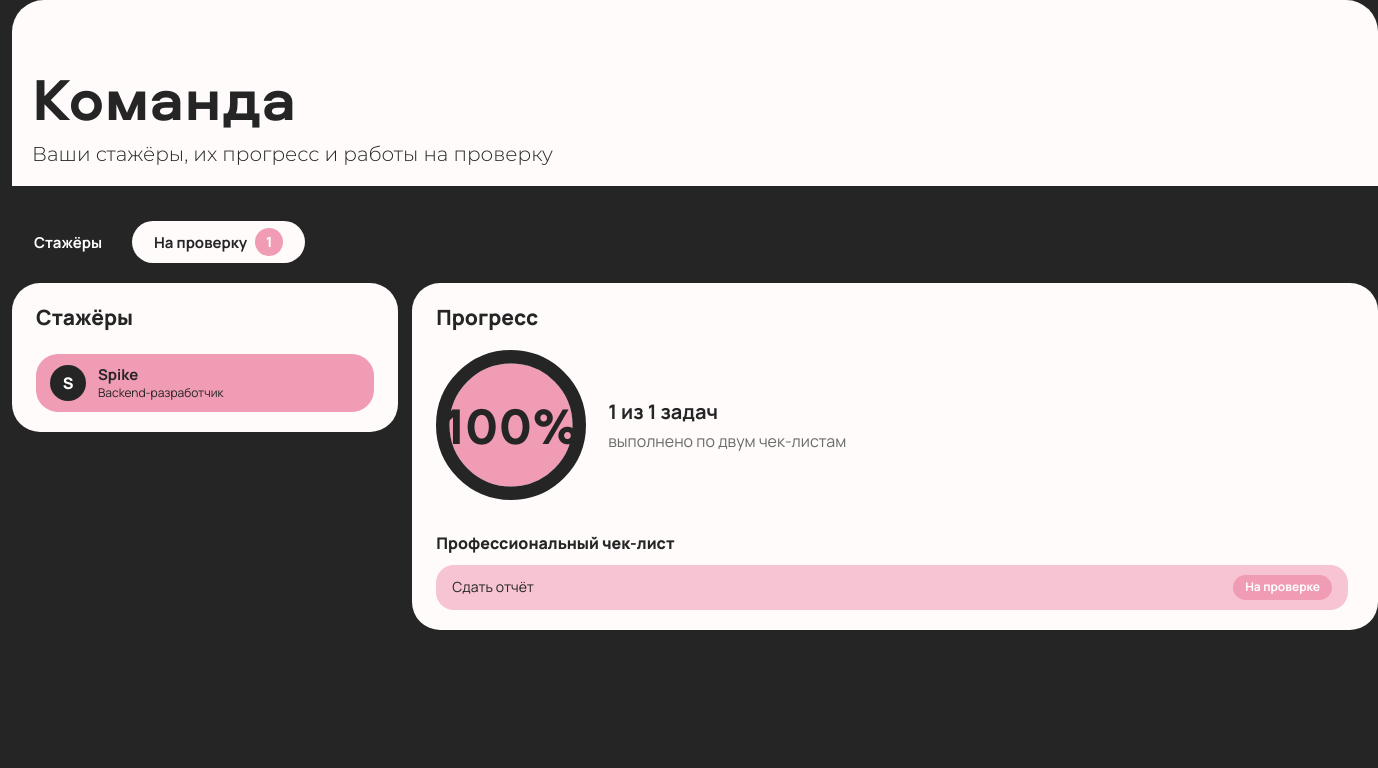
Test case: Команда наставника › вкладка переключается вручную
The image size is (1378, 768).
Click the tab "На проверку 1": (219, 242) 132,221 -> 305,263
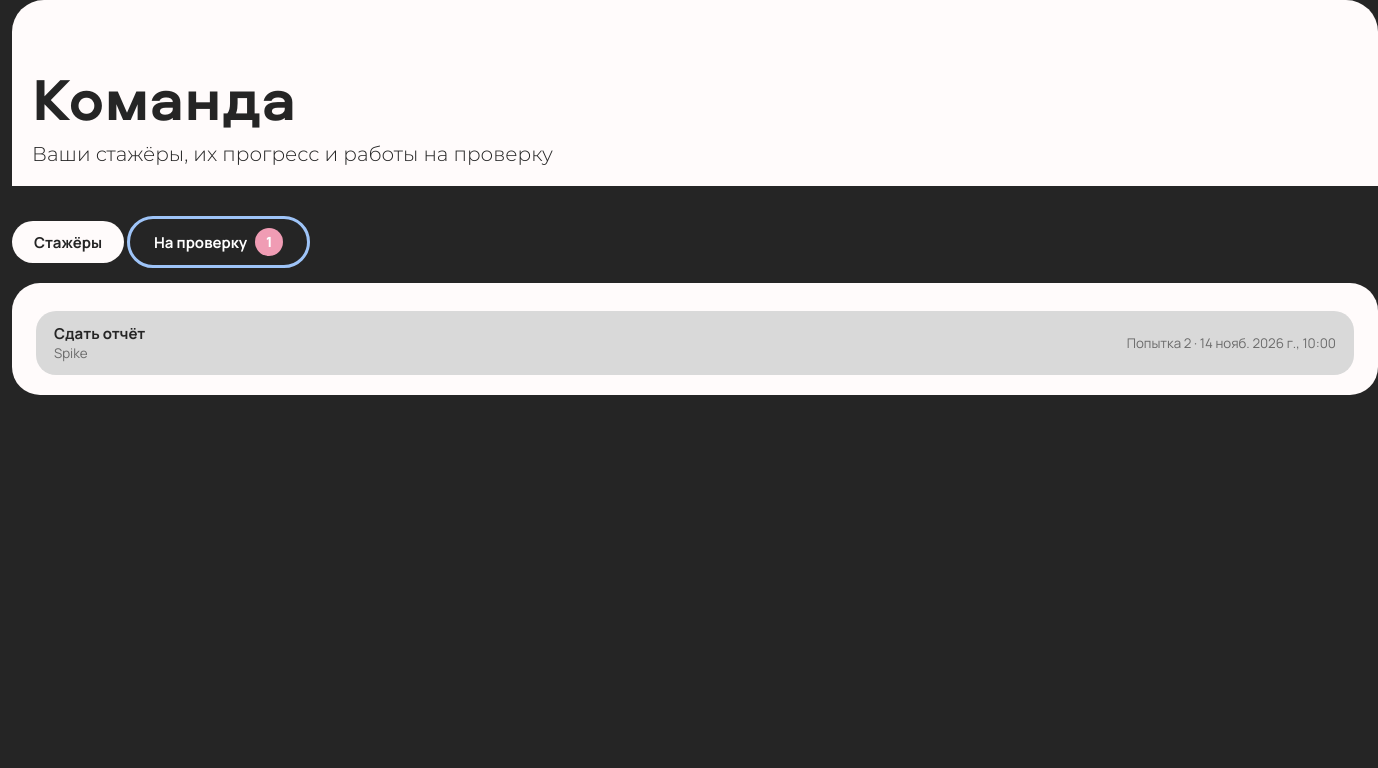
Now the button "Сдать отчёт Spike Попытка 2 · 14 нояб. 2026 г., 10:00" is shown, box 36,311 -> 1354,375
